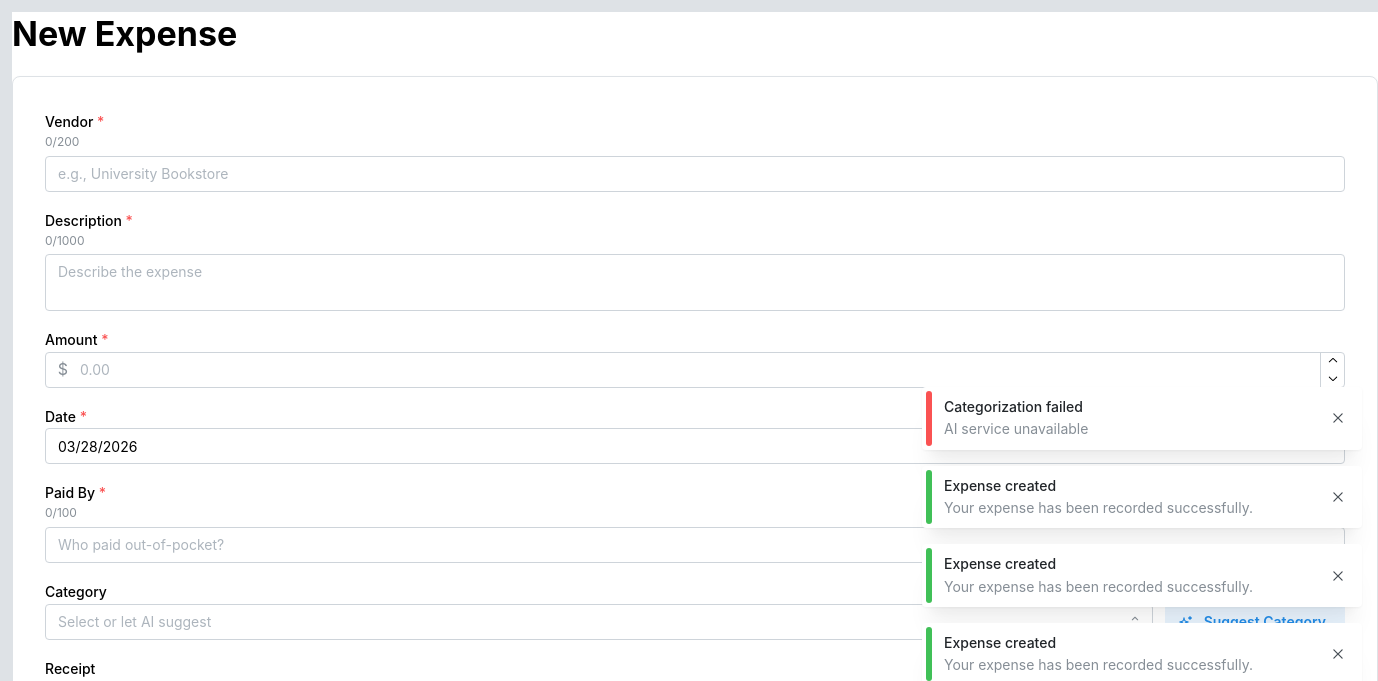
Test: Character limits (#80) › Character counters › updates vendor counter as user types
Type "Hello" into the field labelled "Vendor *". click: {"x": 695, "y": 174}
box: [45,156,1345,192]
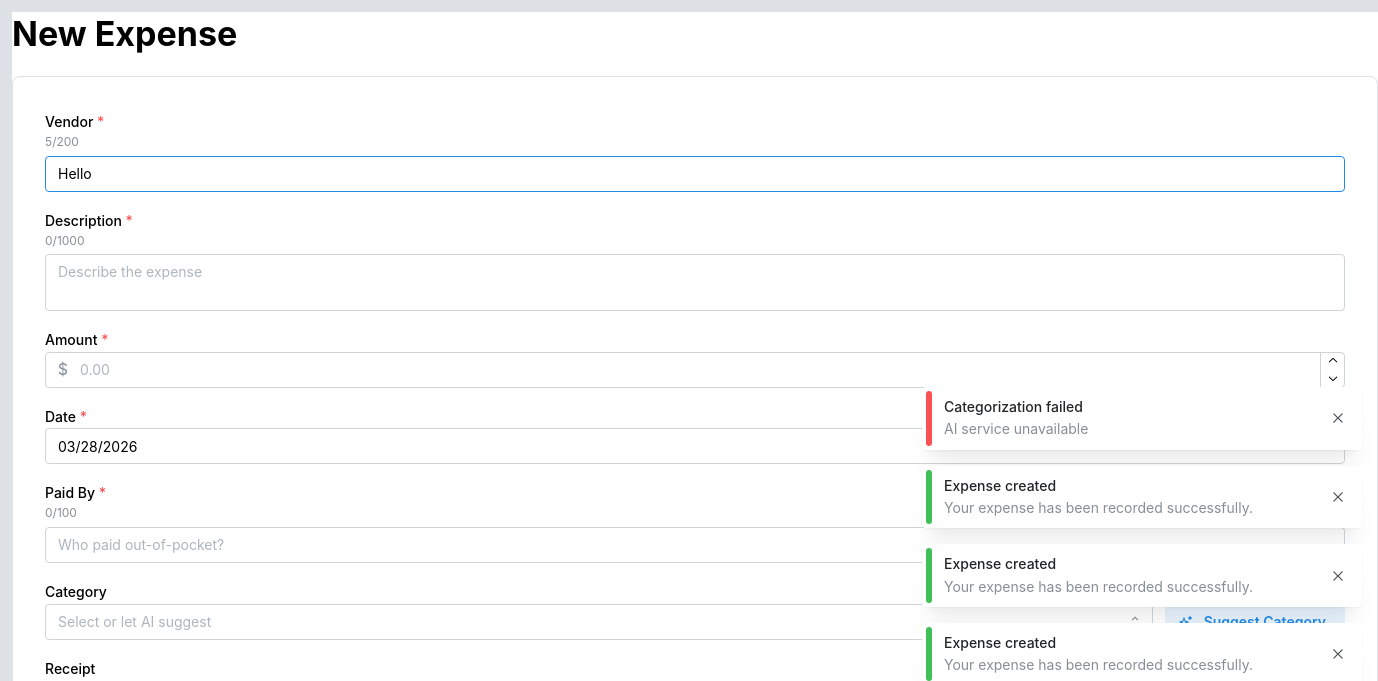
Check: the text "5/200" is shown, box [45,134,79,149]
